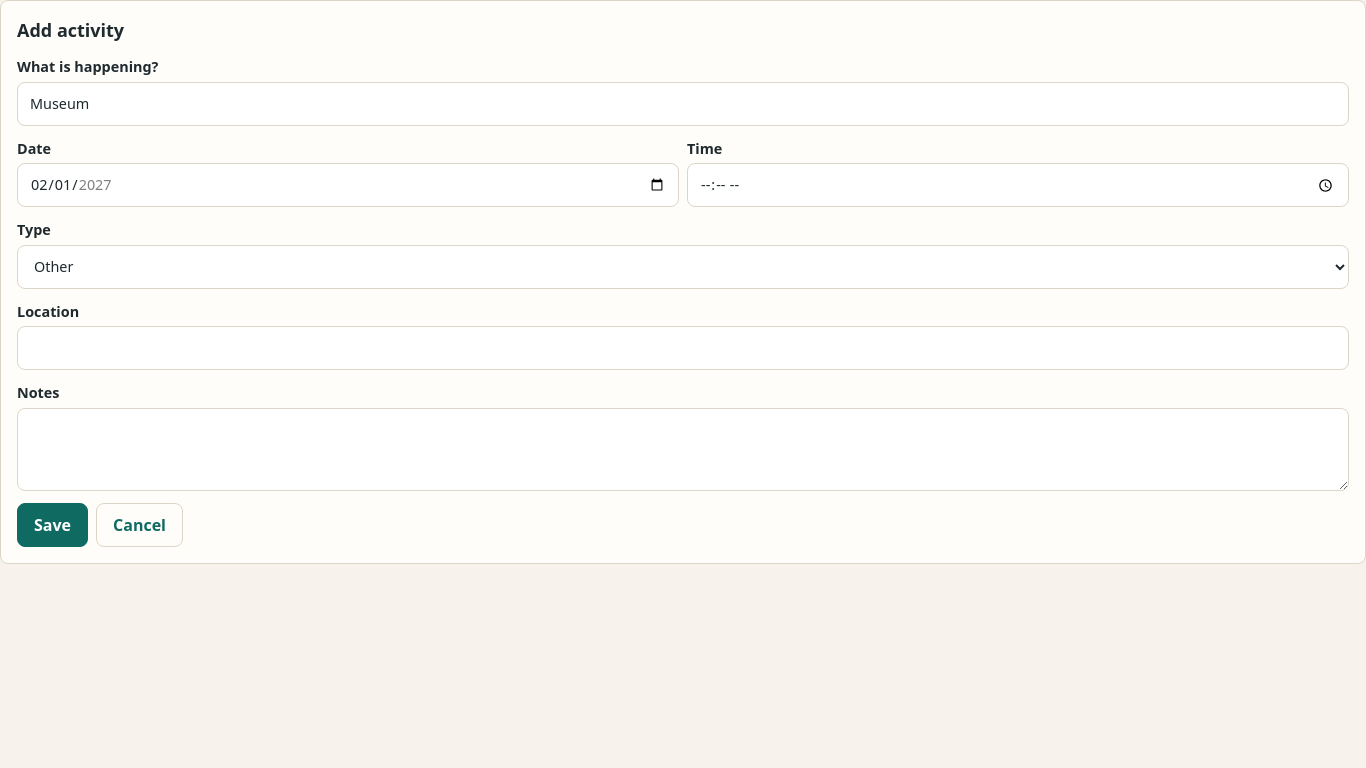
Test: stops a date outside the trip
The image size is (1366, 768).
Click the button "Save".
click(52, 525)  # box [17,503,88,547]
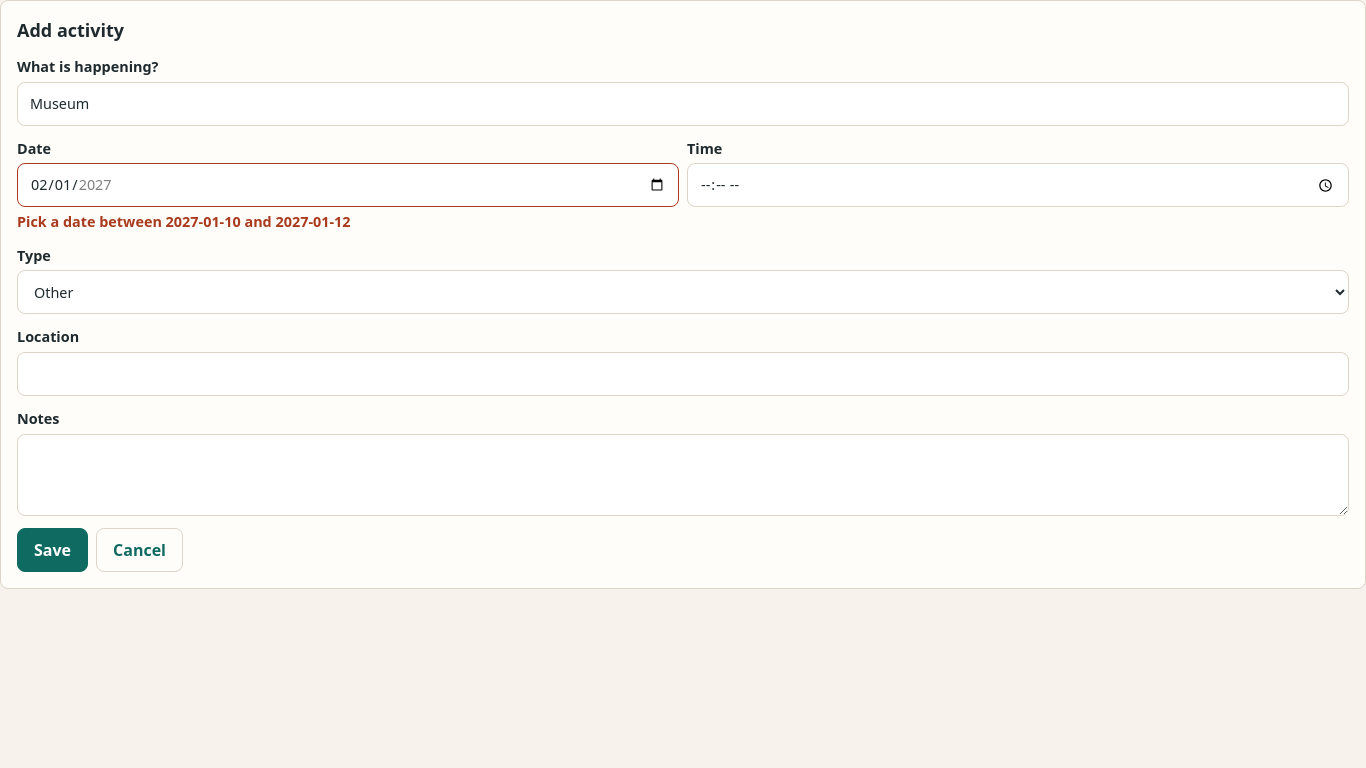
Result: the text "Pick a date between 2027-01-10 and 2027-01-12" is shown at [17,212,351,231]
